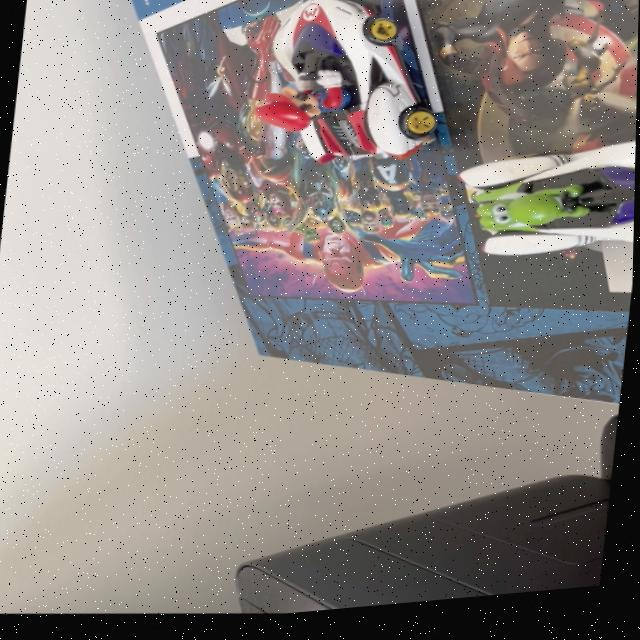mario: (231, 0, 469, 191)
yoshi: (439, 126, 637, 292)
